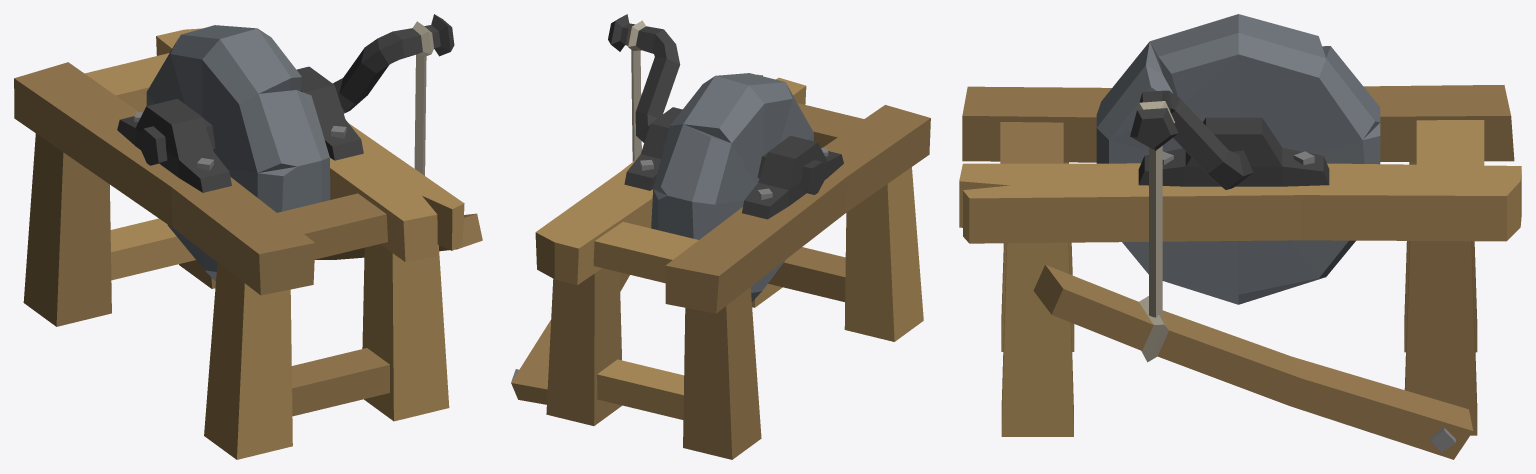
File: Grindstone.gltf
3 views of the same model, side by side, from view 1: azimuth 30°, elevation 25°; view 2: azimuth 150°, elevation 25°; view 3: azimuth 270°, elevation 25° (orthographic). The views are drawn at different scales.
Visible parts, largest first — view 1: Grindstone2; view 2: Grindstone2; view 3: Grindstone2.
Boxes of the visible parts, left/top/right/bottom form: Grindstone2: left=14, top=14, right=482, bottom=459; Grindstone2: left=511, top=14, right=930, bottom=459; Grindstone2: left=959, top=14, right=1521, bottom=459.
Size of the model in its own units: 0.2203 by 0.2465 by 0.3467.
Materials: 1 (1 with a texture image).
